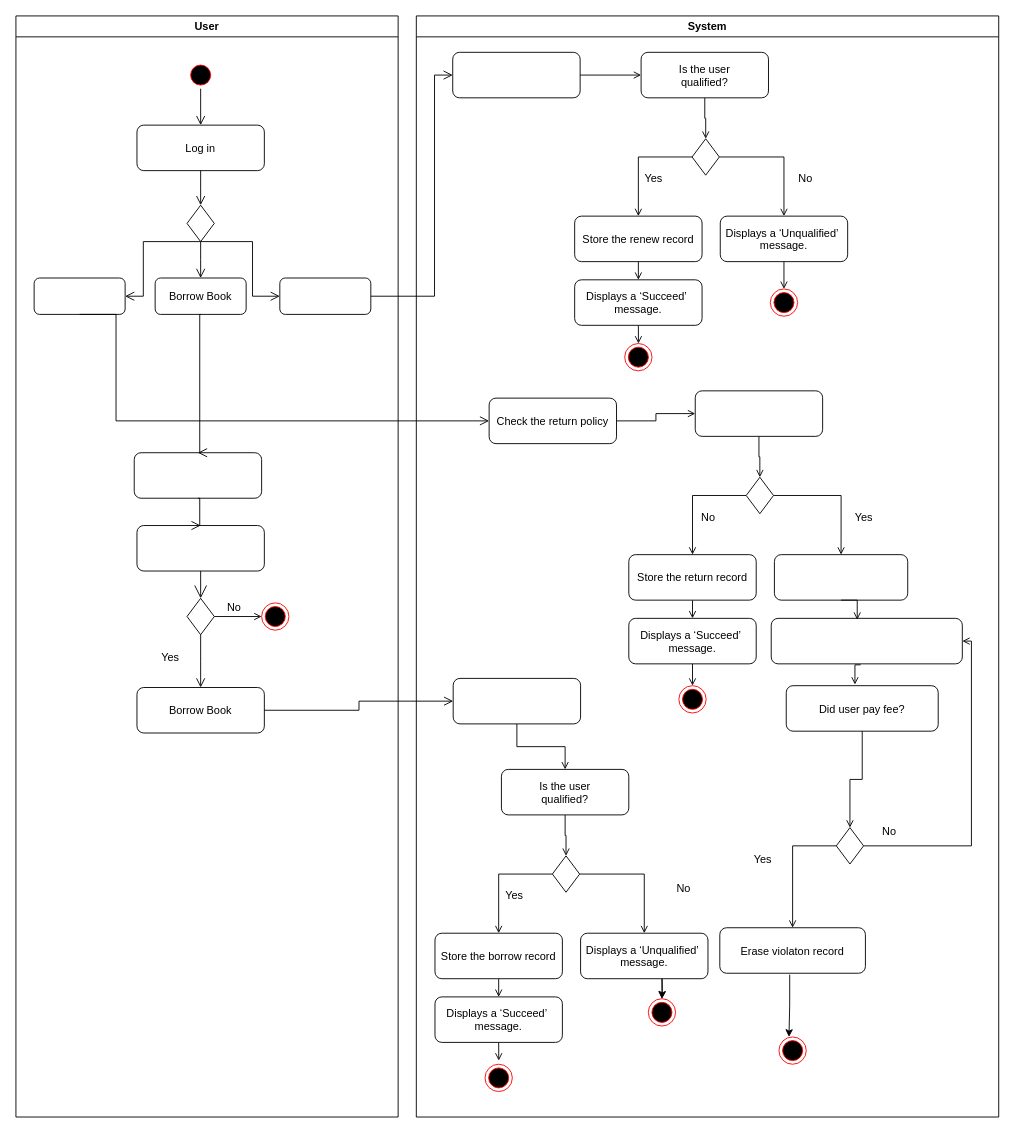
Image size: 1015x1133. Some labels were removed from this diagram. Each missing label, with the centre of its shape:
"Check the borrowing rule" belongs at (516,700).
"Check the renewing rule" belongs at (516,74).
"Displays a ‘Overdue,please pay fine’ message." belongs at (866,640).
"Is Book Available？" belongs at (200,548).
"Is the book overdue?" belongs at (758,413).
"Renew Book" belongs at (325,295).
"Return Book" belongs at (79,295).
"Search Books" belongs at (197,475).
"Store a violaton record" belongs at (841,577).
